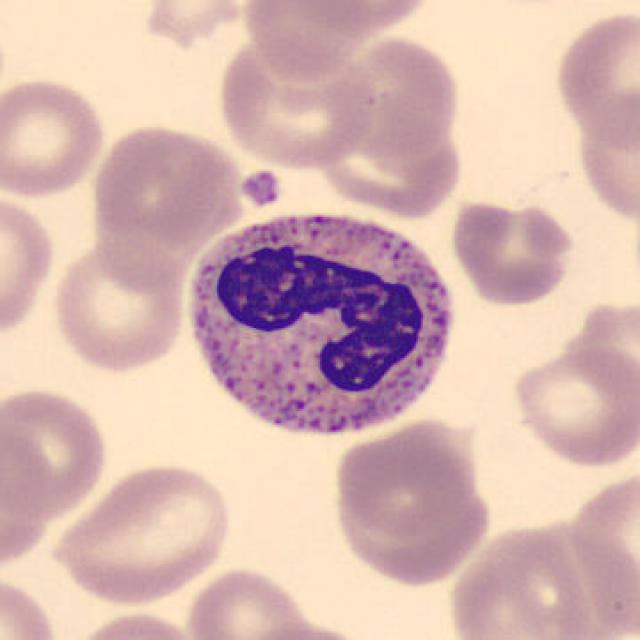Neutrophil: (176, 199, 464, 455)
Platelets: (238, 166, 284, 210)
RBC: (45, 457, 236, 608), (332, 427, 485, 584), (214, 32, 380, 171), (87, 118, 240, 245), (444, 518, 601, 640), (48, 240, 188, 374), (330, 34, 466, 160), (506, 344, 636, 469), (0, 383, 112, 520), (327, 109, 463, 217), (448, 198, 578, 308), (0, 74, 110, 201), (563, 461, 640, 638), (550, 7, 638, 148), (240, 0, 373, 81), (183, 564, 317, 640), (570, 88, 640, 229), (0, 187, 59, 342), (284, 0, 436, 39), (133, 0, 258, 46), (0, 571, 64, 640), (66, 608, 204, 640), (236, 619, 378, 640)
